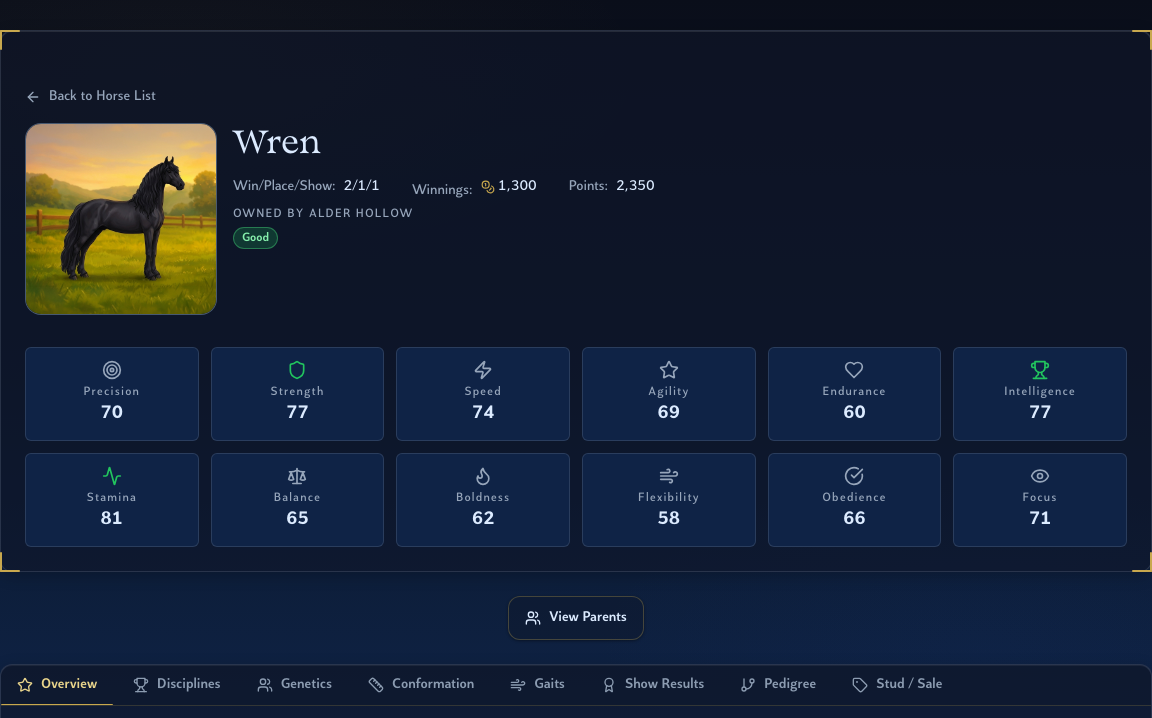
Test case: the horse page in visitor mode is the owner page, read-only › arriving from a breeding request, the stallion owner can accept or reject on the mare
Check: the heading "Wren" is shown, box [233, 129, 322, 161]
Click the tab "Stud / Sale": coordinates (898, 685) [836, 665, 959, 705]
(page scrolled)
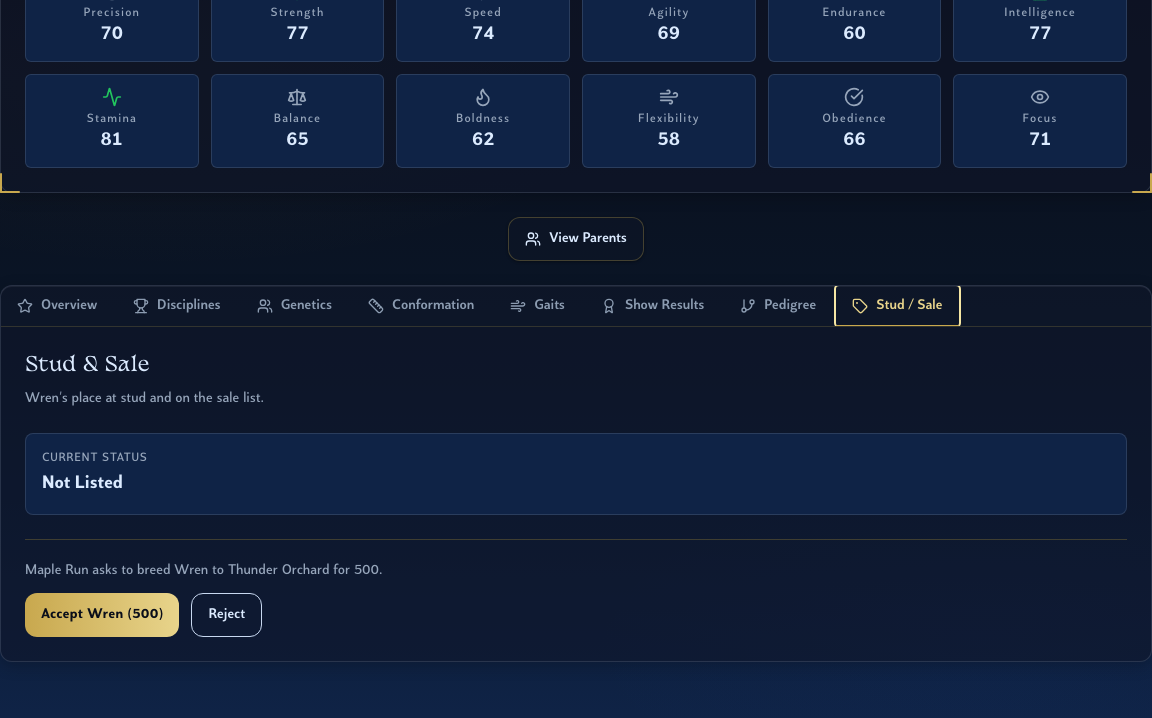
Check: the button "Accept Wren (500)" is shown, box [25, 593, 179, 637]
Check: the button "Reject" is shown, box [191, 593, 262, 637]
